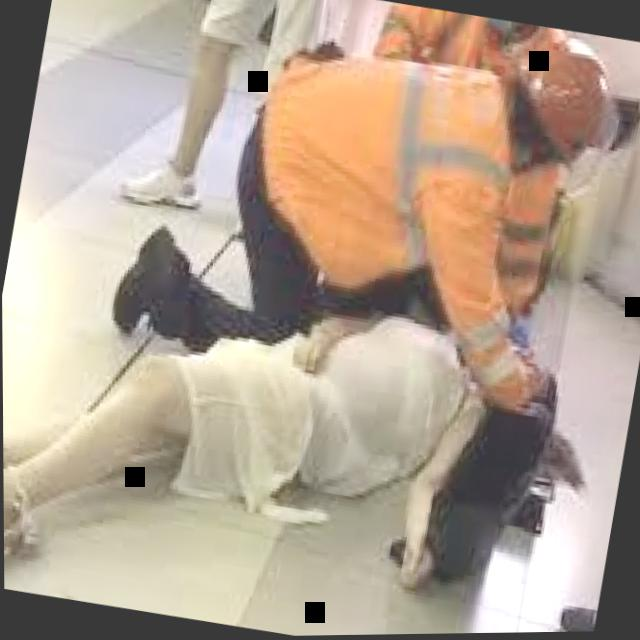Fall-Detected: (1, 195, 563, 640)
